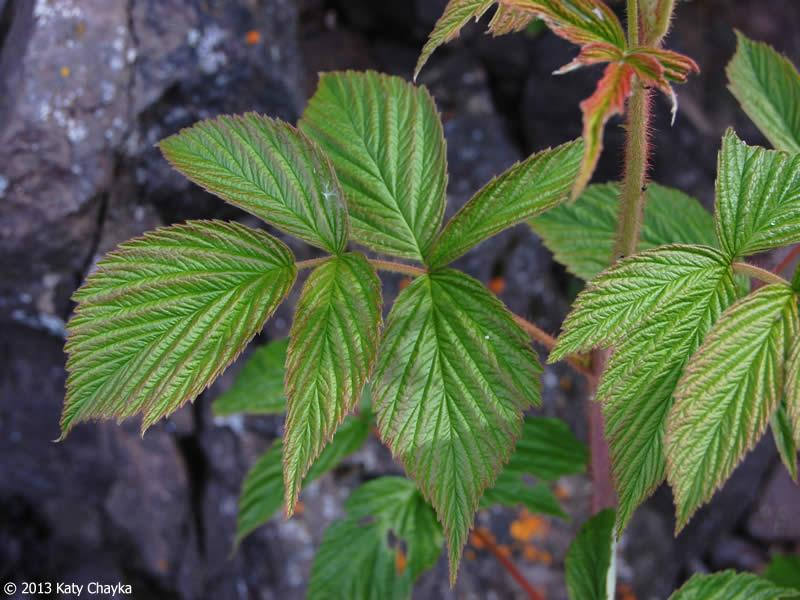Raspberry leaf: (539, 241, 731, 538), (50, 219, 297, 444), (374, 261, 542, 581), (651, 282, 798, 543), (256, 248, 387, 523), (151, 112, 357, 250), (310, 61, 447, 255), (433, 138, 587, 260), (721, 123, 800, 260)
